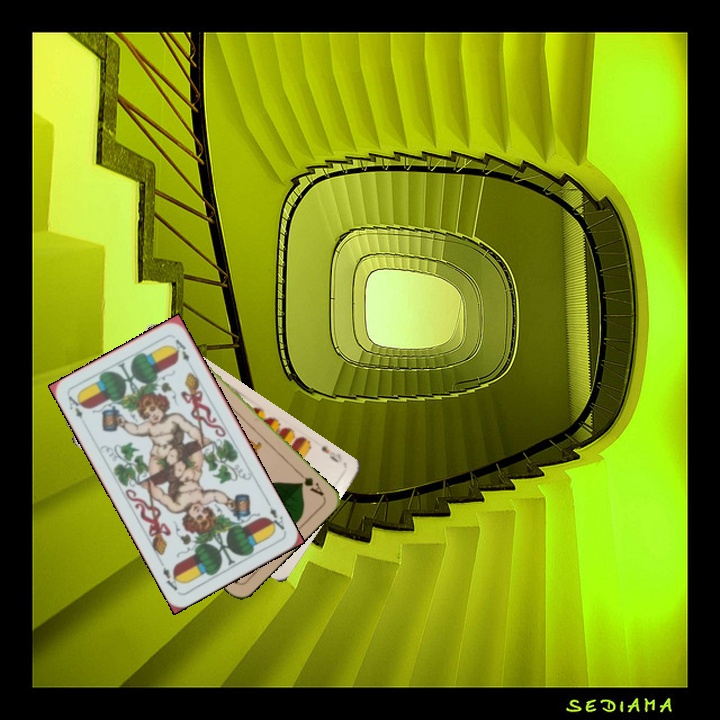E9: (317, 441, 345, 465)
EA: (263, 503, 288, 534), (64, 391, 87, 421)
GA: (293, 467, 327, 499)
